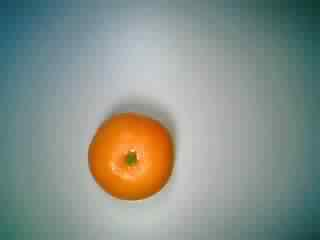orange: (82, 106, 177, 200)
